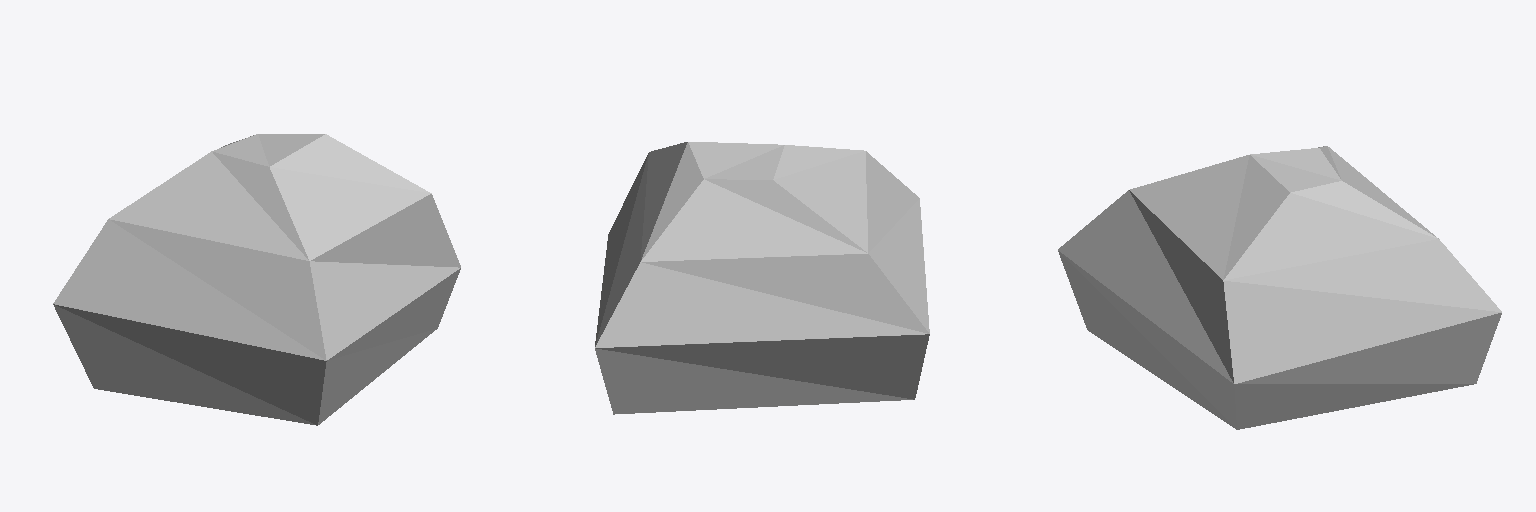
The model's file is Cap2NoSpots.obj.
The picture shows the model from 3 angles: view 1: azimuth 30°, elevation 25°; view 2: azimuth 150°, elevation 25°; view 3: azimuth 270°, elevation 25°; orthographic projection.
Parts seen in each view (by area): view 1: Cap2NoSpots; view 2: Cap2NoSpots; view 3: Cap2NoSpots.
Boxes of the visible parts, box(x1,y1,x2,y2) form: Cap2NoSpots: box(53, 134, 460, 425); Cap2NoSpots: box(595, 142, 929, 414); Cap2NoSpots: box(1058, 146, 1501, 429).
Bounding box in the file's own units: 0.3099 × 0.1632 × 0.3271.